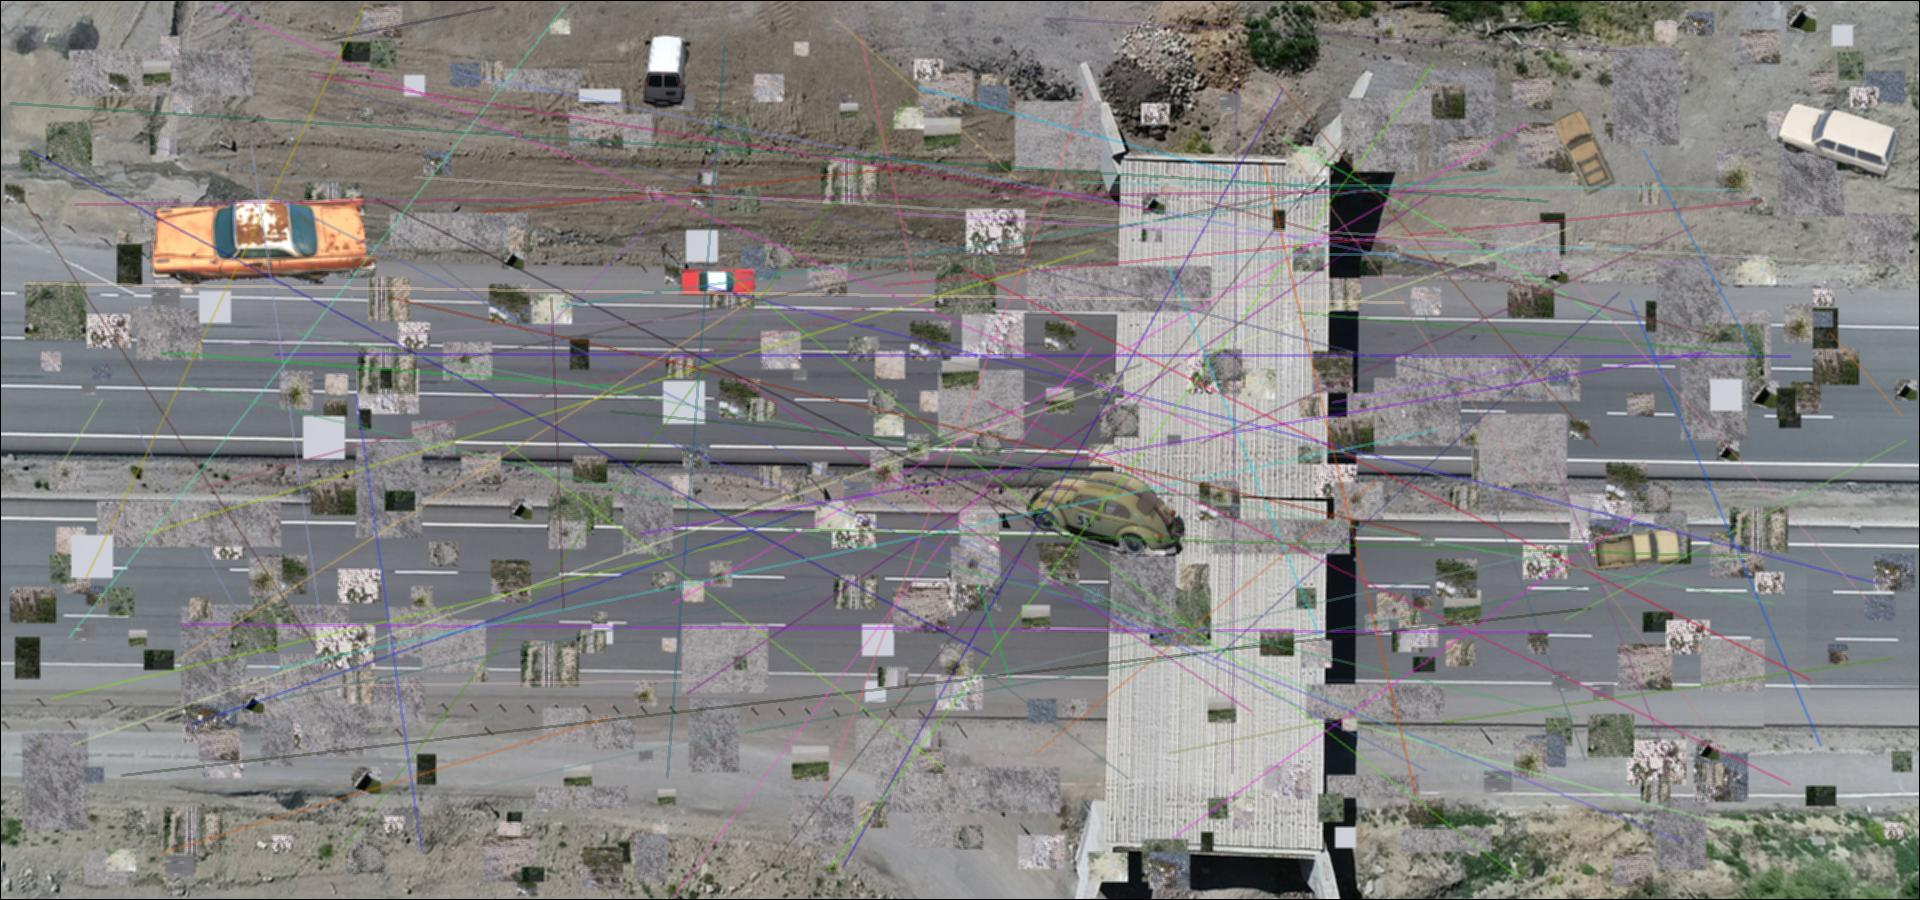arac: (141, 195, 404, 284), (1026, 470, 1185, 556), (1768, 100, 1899, 182), (1551, 109, 1618, 196), (1591, 527, 1682, 571), (640, 33, 691, 108), (678, 266, 757, 298)
